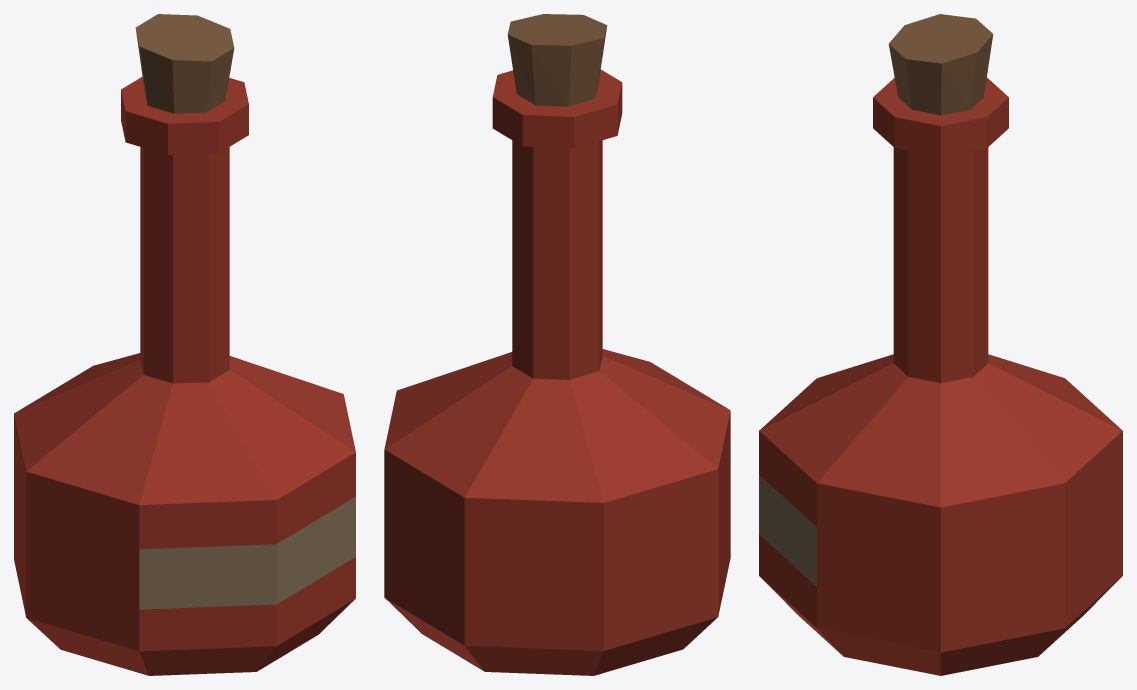
File: SM_Item_Potion_04.gltf
The picture shows the model from 3 angles, left to right: view 1: azimuth 30°, elevation 25°; view 2: azimuth 150°, elevation 25°; view 3: azimuth 270°, elevation 25°; orthographic projection. The views are drawn at different scales.
Parts seen in each view (by area): view 1: SM_Item_Potion_04; view 2: SM_Item_Potion_04; view 3: SM_Item_Potion_04.
Part boxes in pixels (x1=…): SM_Item_Potion_04: x1=14, y1=14, x2=355, y2=675; SM_Item_Potion_04: x1=384, y1=14, x2=730, y2=675; SM_Item_Potion_04: x1=759, y1=14, x2=1122, y2=675.
Size of the model in its own units: 0.2418 by 0.4268 by 0.2418.
Materials: 1 (1 with a texture image).
